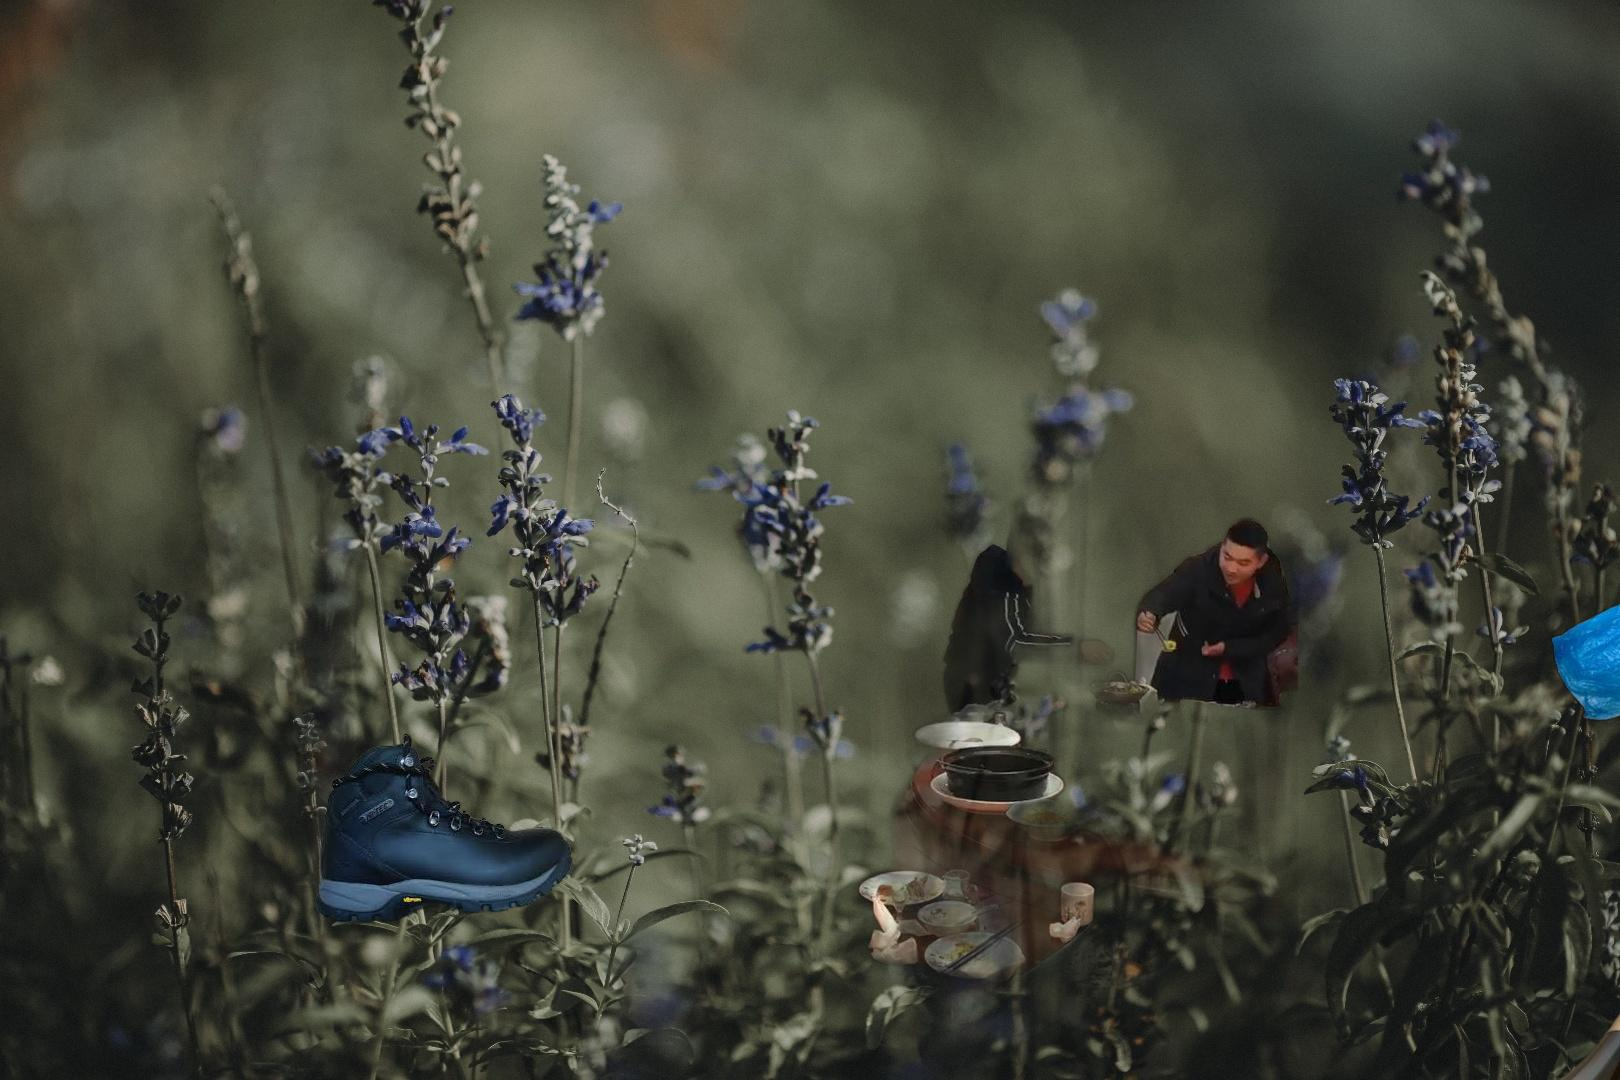biological: (755, 434, 1298, 1076)
glass: (1336, 959, 1620, 1080)
plastic-bag: (1550, 581, 1620, 724)
shoes: (313, 732, 574, 925)
